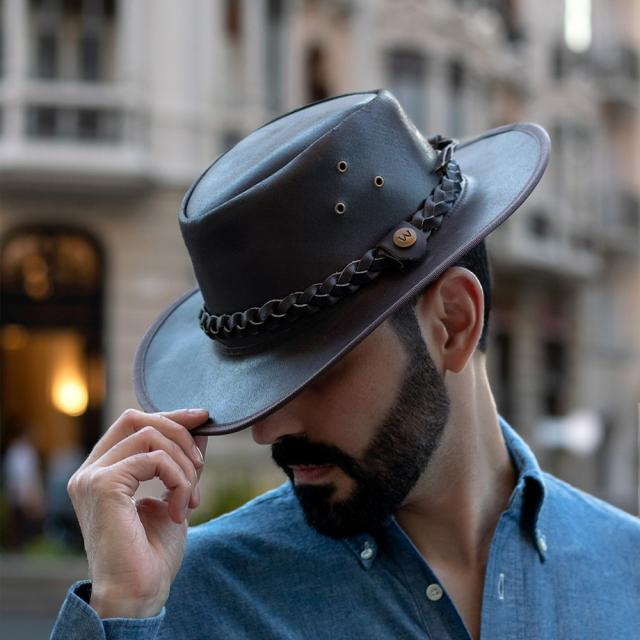hat: (81, 70, 564, 437)
